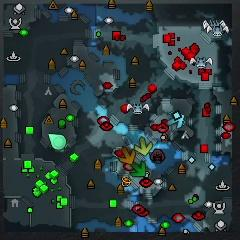p2: (49, 131, 68, 151)
x2: (135, 136, 154, 158)
x3: (166, 111, 186, 129)
x4: (131, 161, 147, 180)
x5: (117, 146, 137, 166)
